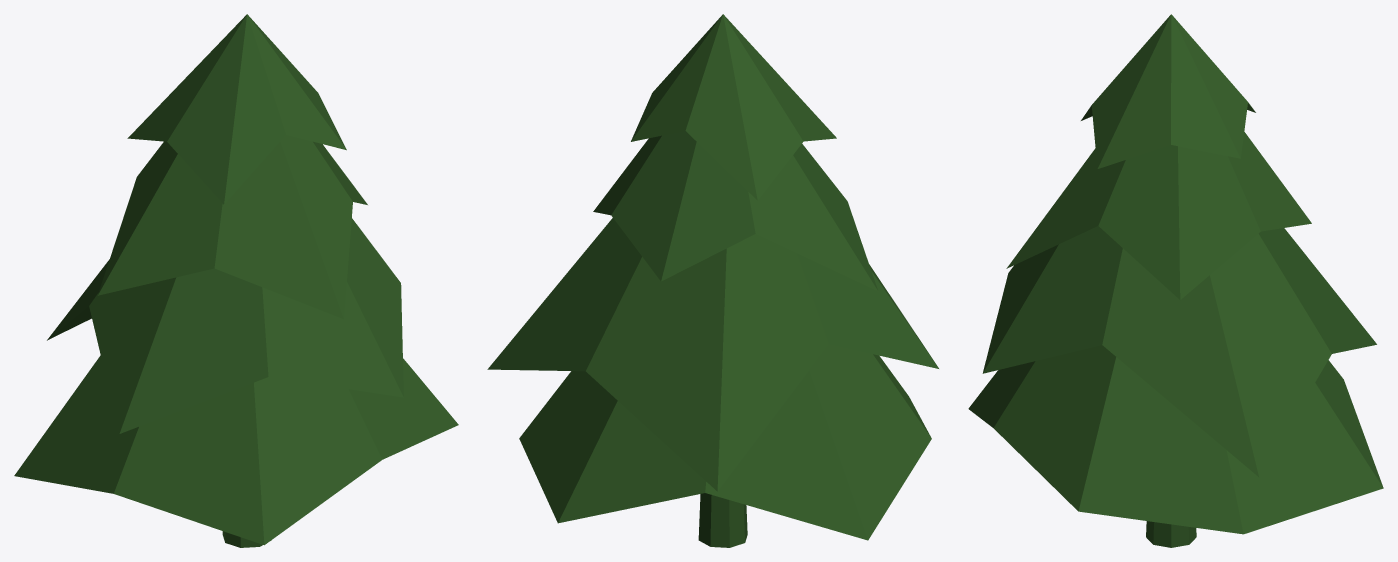
Rendered from Saplin1.FBX.
3 views of the same model, side by side, from view 1: azimuth 30°, elevation 25°; view 2: azimuth 150°, elevation 25°; view 3: azimuth 270°, elevation 25° (orthographic).
Parts seen in each view (by area): view 1: Saplin1; view 2: Saplin1; view 3: Saplin1.
Boxes of the visible parts, left/top/right/bottom form: Saplin1: left=14, top=14, right=458, bottom=547; Saplin1: left=487, top=14, right=938, bottom=547; Saplin1: left=968, top=14, right=1383, bottom=547.
Size of what is drawn, in the model's own units: 347 by 328 by 455.
